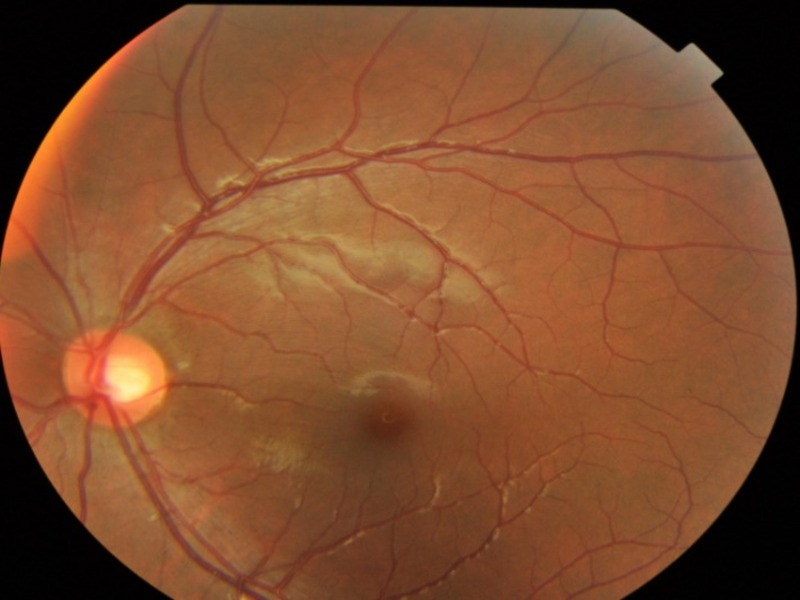Optic Cup: (106, 360, 145, 401)
Optic Disc: (63, 328, 164, 427)
